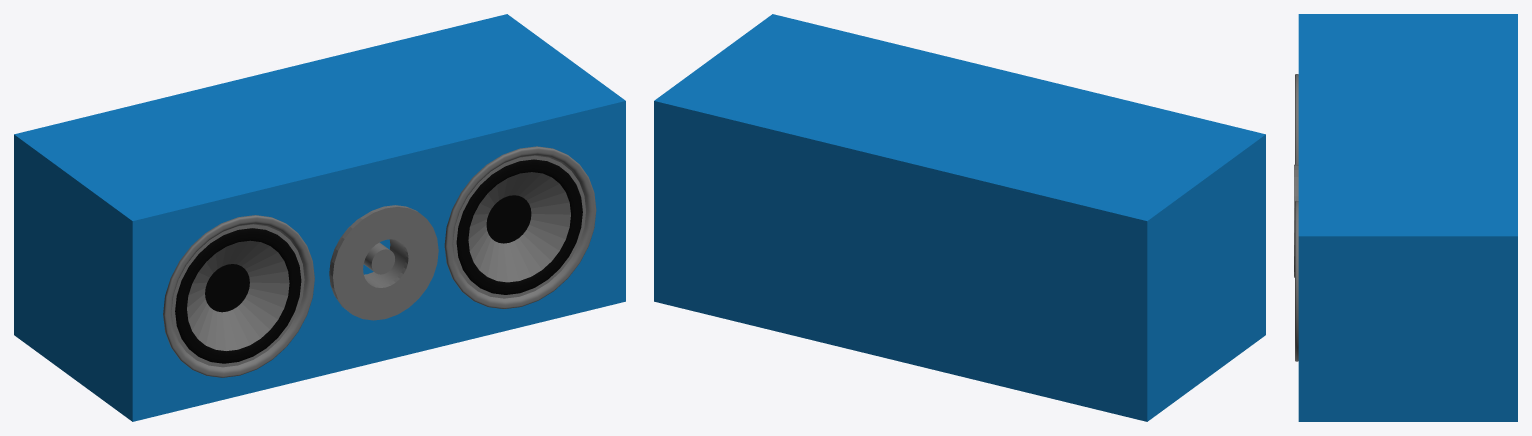
File: 스피커_파.FBX
The picture shows the model from 3 angles, left to right: view 1: azimuth 30°, elevation 25°; view 2: azimuth 150°, elevation 25°; view 3: azimuth 270°, elevation 25°; orthographic projection. The views are drawn at different scales.
Parts seen in each view (by area): view 1: Box009, Circle028, Circle029, Circle027; view 2: Box009; view 3: Box009, Circle028, Circle029, Circle027.
Part boxes in pixels (x1=…): Box009: x1=14, y1=14, x2=625, y2=421; Circle028: x1=444, y1=146, x2=596, y2=308; Circle029: x1=163, y1=215, x2=314, y2=377; Circle027: x1=329, y1=205, x2=438, y2=320; Box009: x1=654, y1=14, x2=1265, y2=421; Box009: x1=1298, y1=14, x2=1517, y2=421; Circle028: x1=1295, y1=201, x2=1298, y2=361; Circle029: x1=1295, y1=74, x2=1298, y2=164; Circle027: x1=1294, y1=164, x2=1298, y2=277.
Size of the model in its own units: 497 by 193 by 211.
